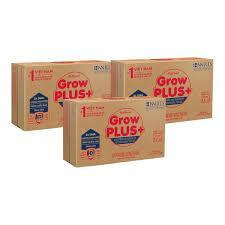box: (110, 57, 213, 129), (62, 97, 166, 168), (11, 60, 112, 132)
